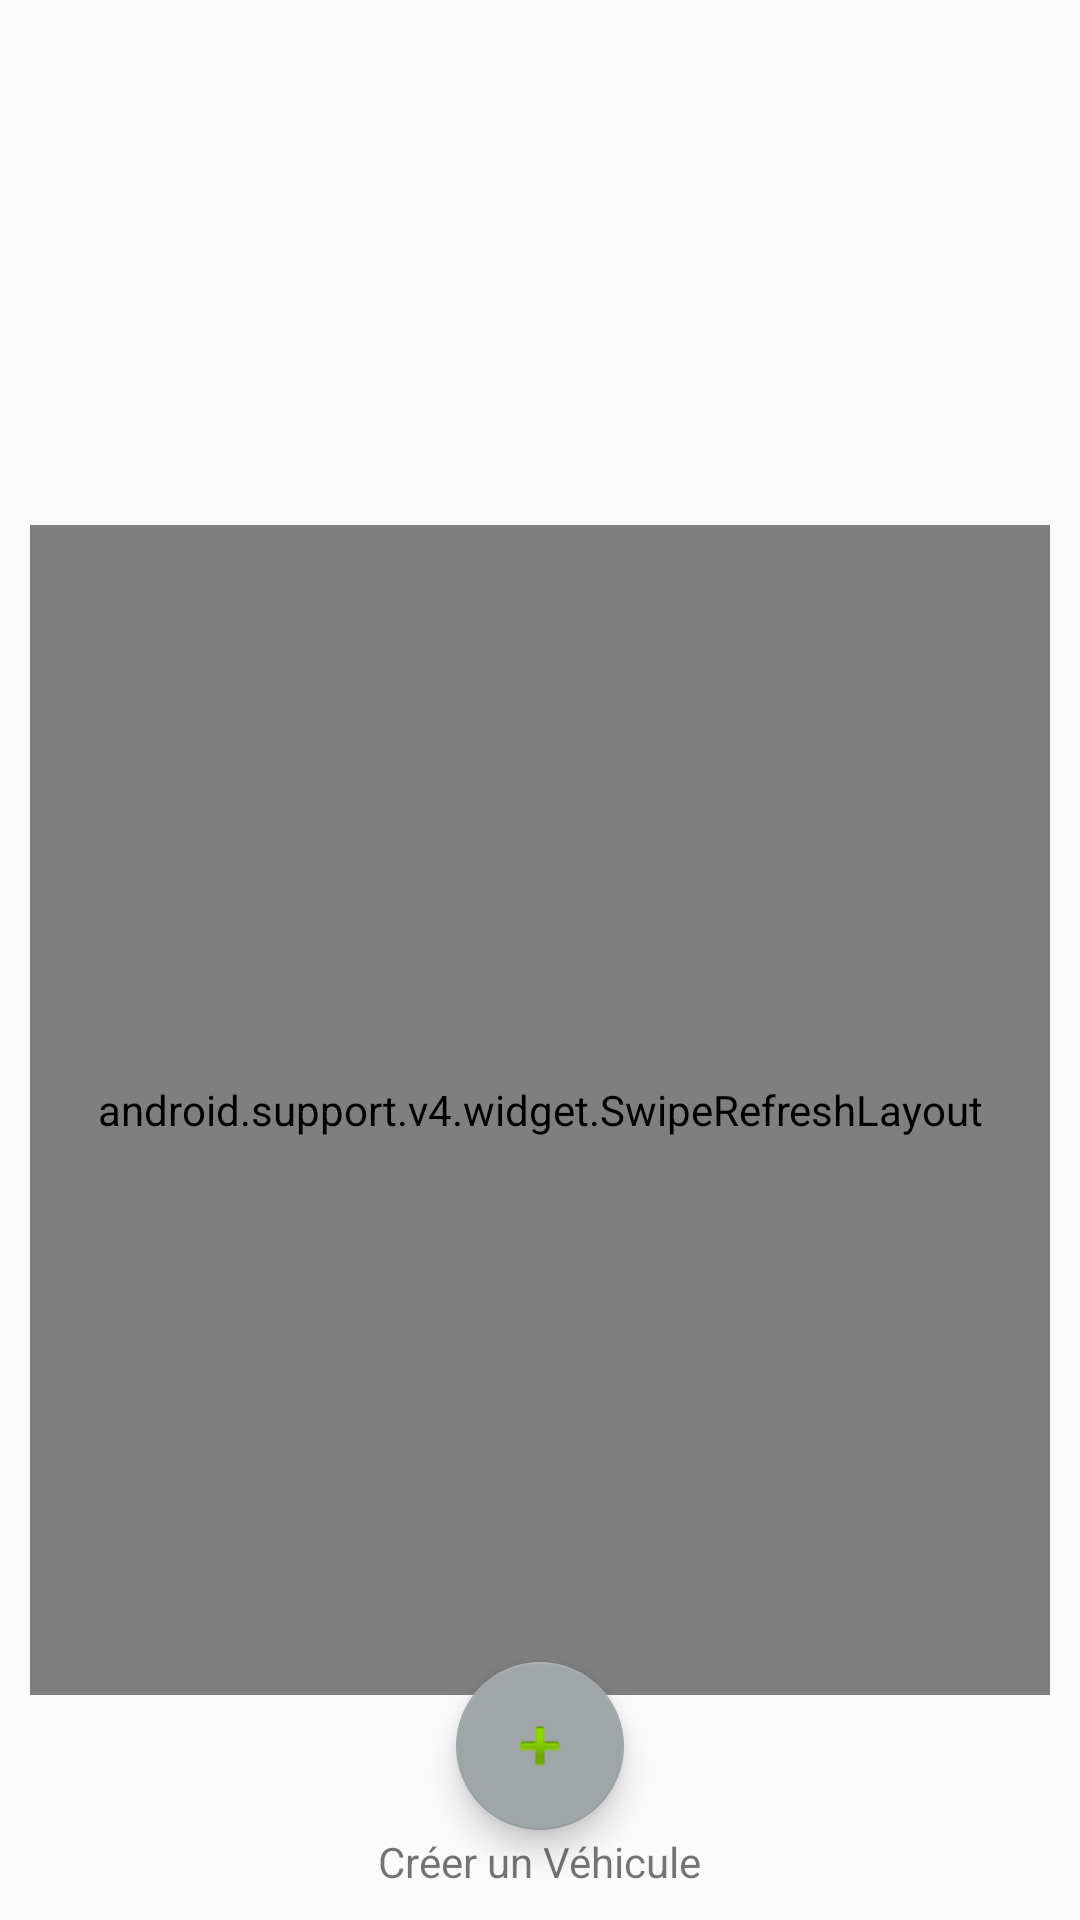

Icon click points for this 1080 x 1920 phone screenshot, format (x,y):
add: (540,1746)
